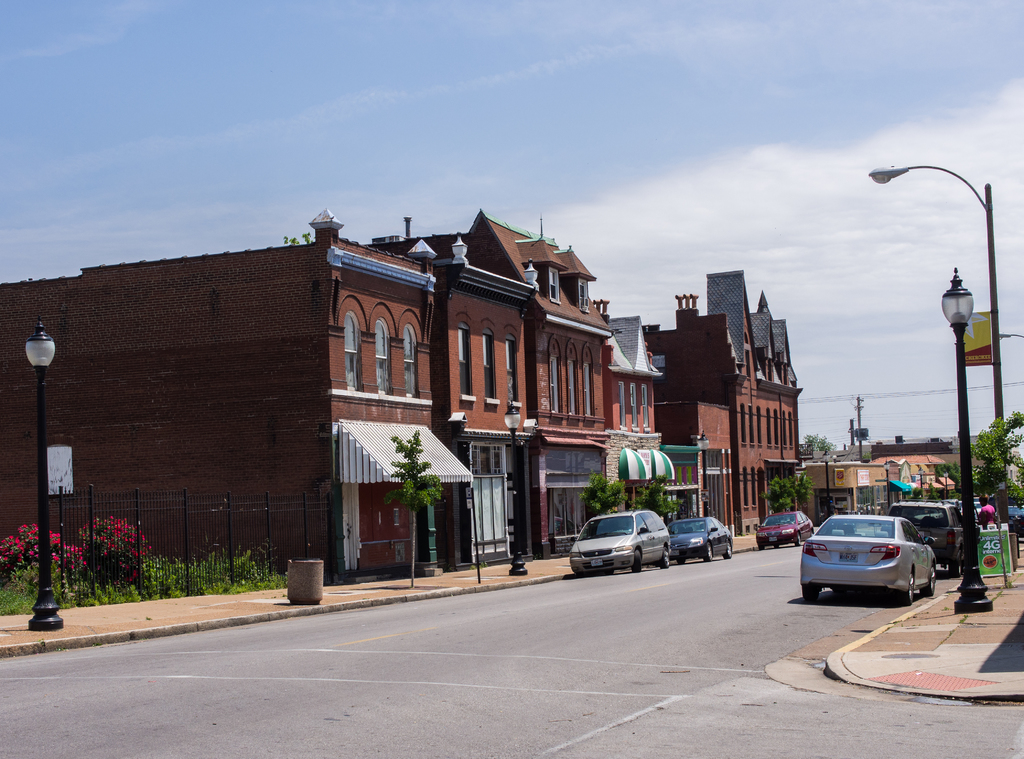Car: (803, 508, 943, 607), (567, 509, 670, 575), (666, 516, 736, 567), (755, 505, 812, 550)
